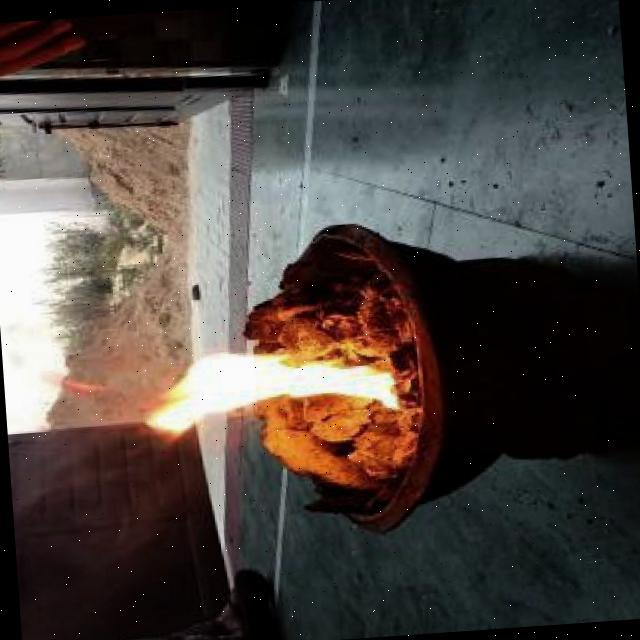fire: (131, 338, 409, 447)
